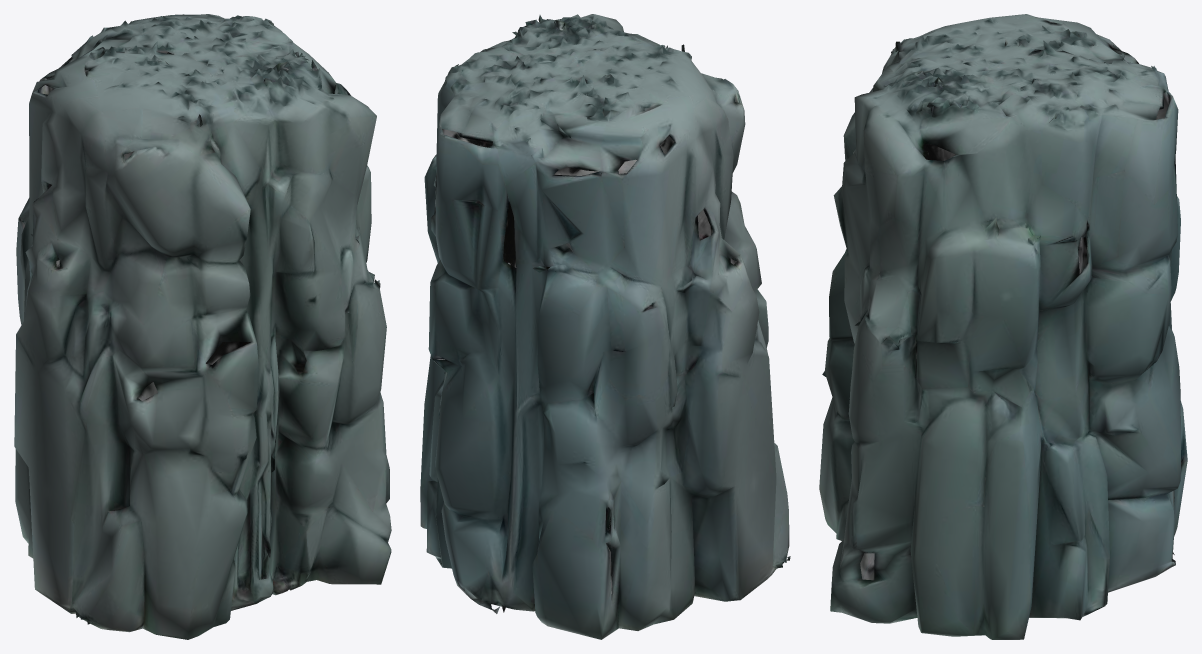
The model's file is waterfall-cliff.glb.
3 renders of one model, left to right at view 1: azimuth 30°, elevation 25°; view 2: azimuth 150°, elevation 25°; view 3: azimuth 270°, elevation 25°, orthographic. The views are drawn at different scales.
Visible parts, largest first — view 1: Mesh_0; view 2: Mesh_0; view 3: Mesh_0.
Part boxes in pixels (<box>): Mesh_0: <box>14,14,391,639</box>; Mesh_0: <box>420,14,790,639</box>; Mesh_0: <box>819,14,1187,639</box>.
Size of the model in its own units: 7.83 by 12 by 7.72.
Materials: 1 (1 with a texture image).
